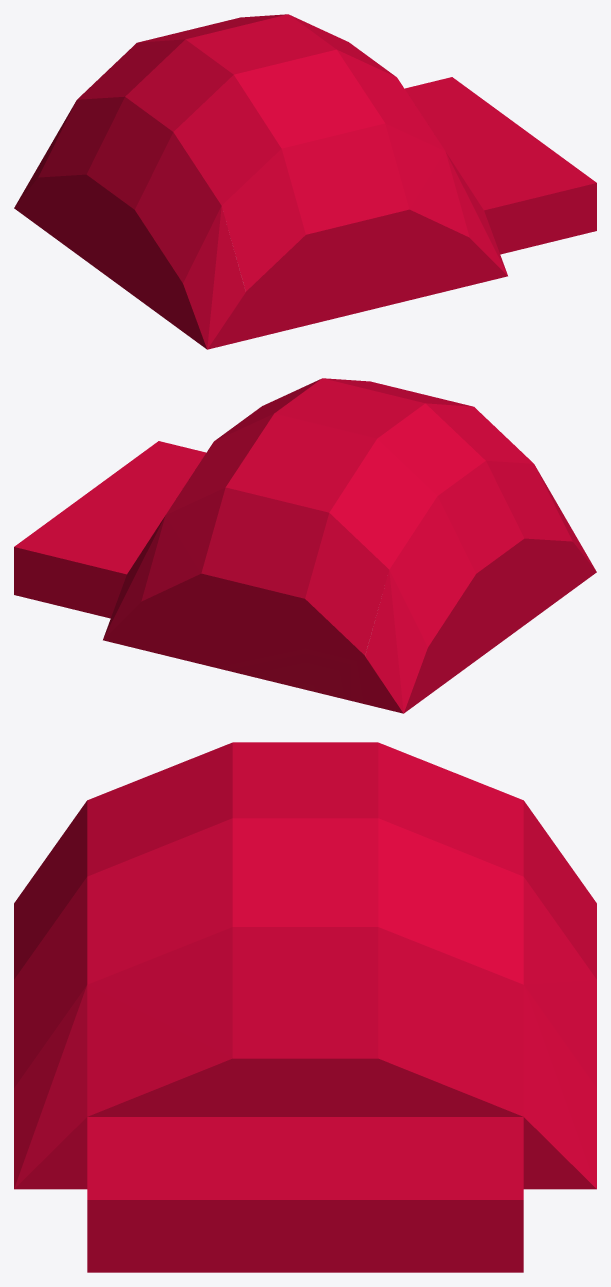
Rendered from Cap.fbx.
3 views of the same model, one above another, from view 1: azimuth 30°, elevation 25°; view 2: azimuth 150°, elevation 25°; view 3: azimuth 270°, elevation 25° (orthographic). The views are drawn at different scales.
Parts seen in each view (by area): view 1: Cube; view 2: Cube; view 3: Cube.
Boxes of the visible parts, x1,y1,x2,y2 form: Cube: [14, 14, 596, 349]; Cube: [14, 378, 596, 713]; Cube: [14, 742, 596, 1272].
Bounding box in the file's own units: 31.63 × 14.44 × 25.58.
